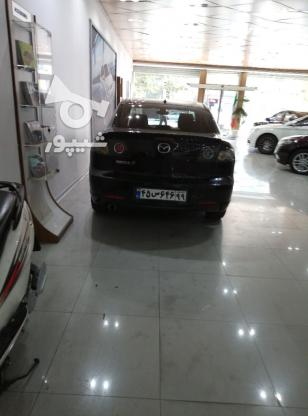car: (137, 189, 188, 201)
